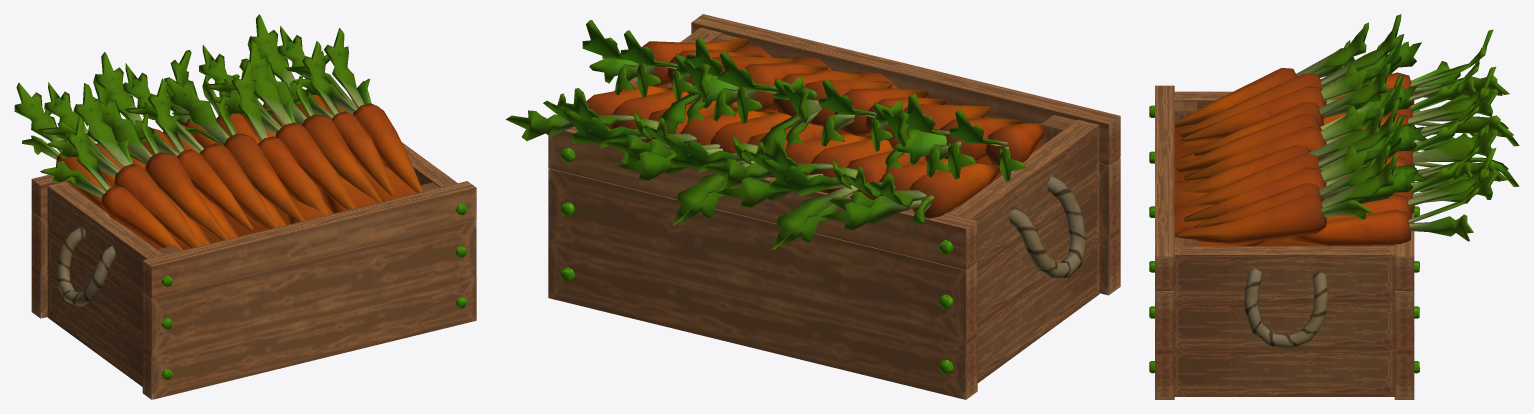
File: prop_farmcrate_carrot.glb
3 renders of one model, left to right at view 1: azimuth 30°, elevation 25°; view 2: azimuth 150°, elevation 25°; view 3: azimuth 270°, elevation 25°, orthographic. The views are drawn at different scales.
Visible parts, largest first — view 1: Cylinder018_1, Cylinder018, Cylinder018_2; view 2: Cylinder018_1, Cylinder018, Cylinder018_2; view 3: Cylinder018, Cylinder018_1, Cylinder018_2.
Boxes of the visible parts, box(x1,y1,x2,y2) form: Cylinder018_1: box(31, 142, 476, 399); Cylinder018: box(14, 14, 422, 250); Cylinder018_2: box(161, 203, 467, 379); Cylinder018_1: box(548, 14, 1120, 399); Cylinder018: box(506, 20, 1044, 249); Cylinder018_2: box(560, 147, 953, 374); Cylinder018: box(1174, 14, 1519, 246); Cylinder018_1: box(1155, 85, 1414, 399); Cylinder018_2: box(1149, 105, 1419, 373).
Bounding box in the file's own units: 0.7138 × 0.4113 × 0.567.
3 materials, 3 textured.
